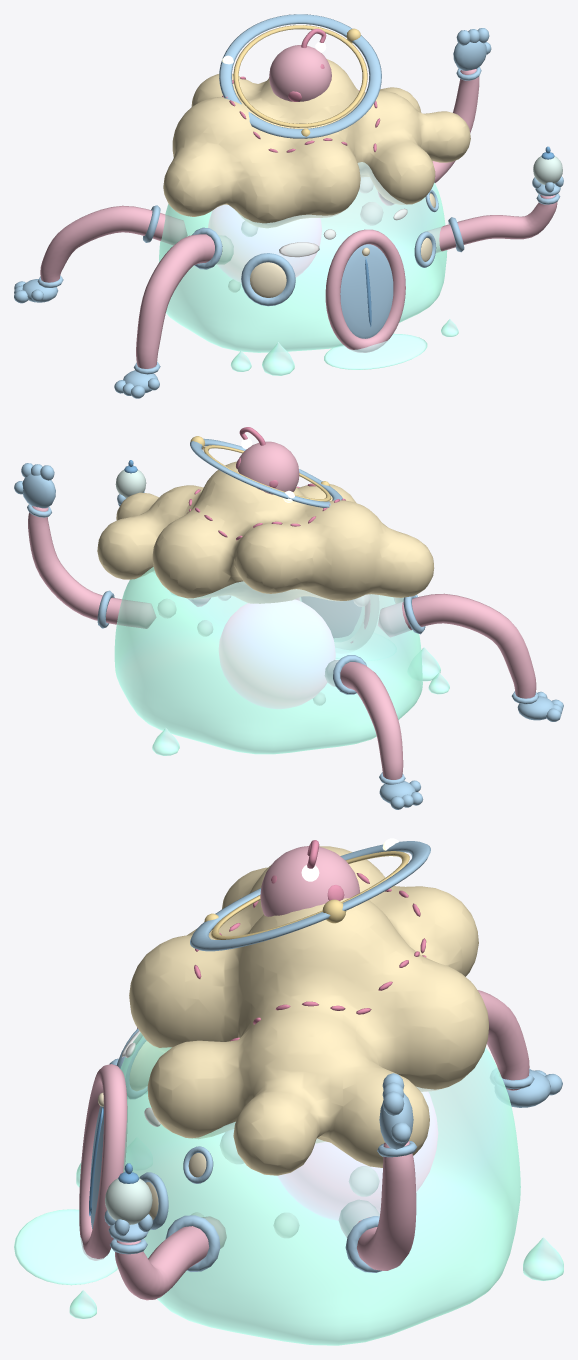
File: house_10_1001.fbx
3 renders of one model, top to bottom at view 1: azimuth 30°, elevation 25°; view 2: azimuth 150°, elevation 25°; view 3: azimuth 270°, elevation 25°, orthographic. The views are drawn at different scales.
Parts seen in each view (by area): view 1: Cloud_Roof, Jelly_Base, Planet_Ring, Arm_LeftFront, Arm_LeftBack, Door_Rim, Door_Membrane, Jelly_Core, Arm_Lantern, Roof_Planet, Arm_RightWave, Door_Step (+6 smaller); view 2: Jelly_Base, Cloud_Roof, Jelly_Core, Arm_LeftFront, Arm_RightWave, Arm_LeftBack, Roof_Planet, Planet_Ring, Door_Membrane, Jelly_Drops, Jelly_Bubbles, Lantern_Orb; view 3: Cloud_Roof, Jelly_Base, Arm_RightWave, Arm_Lantern, Door_Rim, Planet_Ring, Jelly_Core, Door_Step, Roof_Planet, Arm_LeftBack, Lantern_Orb, Jelly_Drops (+6 smaller).
Boxes of the visible parts, left/top/right/bottom form: Cloud_Roof: left=163, top=59, right=470, bottom=227; Jelly_Base: left=159, top=162, right=447, bottom=352; Planet_Ring: left=219, top=14, right=381, bottom=138; Arm_LeftFront: left=114, top=227, right=233, bottom=398; Arm_LeftBack: left=14, top=205, right=187, bottom=303; Door_Rim: left=325, top=229, right=405, bottom=352; Door_Membrane: left=340, top=244, right=393, bottom=338; Jelly_Core: left=208, top=205, right=321, bottom=283; Arm_Lantern: left=426, top=176, right=563, bottom=252; Roof_Planet: left=269, top=45, right=331, bottom=101; Arm_RightWave: left=378, top=28, right=491, bottom=205; Door_Step: left=324, top=333, right=427, bottom=369; Jelly_Base: left=114, top=567, right=422, bottom=754; Cloud_Roof: left=97, top=461, right=434, bottom=603; Jelly_Core: left=219, top=599, right=335, bottom=708; Arm_LeftFront: left=378, top=593, right=563, bottom=721; Arm_RightWave: left=14, top=463, right=156, bottom=628; Arm_LeftBack: left=325, top=655, right=423, bottom=809; Roof_Planet: left=236, top=441, right=299, bottom=494; Planet_Ring: left=190, top=436, right=342, bottom=507; Door_Membrane: left=301, top=596, right=361, bottom=638; Jelly_Drops: left=152, top=647, right=449, bottom=755; Jelly_Bubbles: left=157, top=594, right=369, bottom=705; Lantern_Orb: left=115, top=460, right=146, bottom=498; Cloud_Roof: left=129, top=846, right=488, bottom=1175; Jelly_Base: left=120, top=1032, right=520, bottom=1345; Arm_RightWave: left=339, top=1073, right=417, bottom=1272; Arm_Lantern: left=104, top=1210, right=226, bottom=1300; Door_Rim: left=79, top=1064, right=127, bottom=1260; Planet_Ring: left=190, top=838, right=430, bottom=951; Jelly_Core: left=277, top=1091, right=437, bottom=1220; Door_Step: left=14, top=1209, right=117, bottom=1285; Roof_Planet: left=260, top=846, right=360, bottom=916; Arm_LeftBack: left=477, top=990, right=562, bottom=1107; Lantern_Orb: left=105, top=1163, right=152, bottom=1224; Jelly_Drops: left=69, top=1162, right=563, bottom=1318.
Bounding box in the file's own units: 7 × 3.92 × 4.6.
